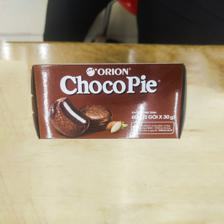Chocopie_cacao: (29, 61, 189, 141)
